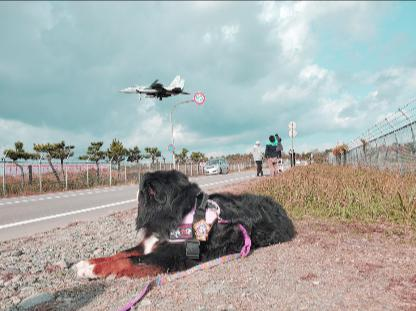F117: (118, 74, 190, 100)
